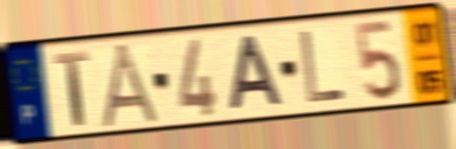4: (177, 35, 219, 119)
5: (352, 16, 403, 104)
A: (98, 40, 166, 130), (228, 32, 287, 114)
L: (297, 28, 348, 107)
T: (51, 49, 91, 129)
